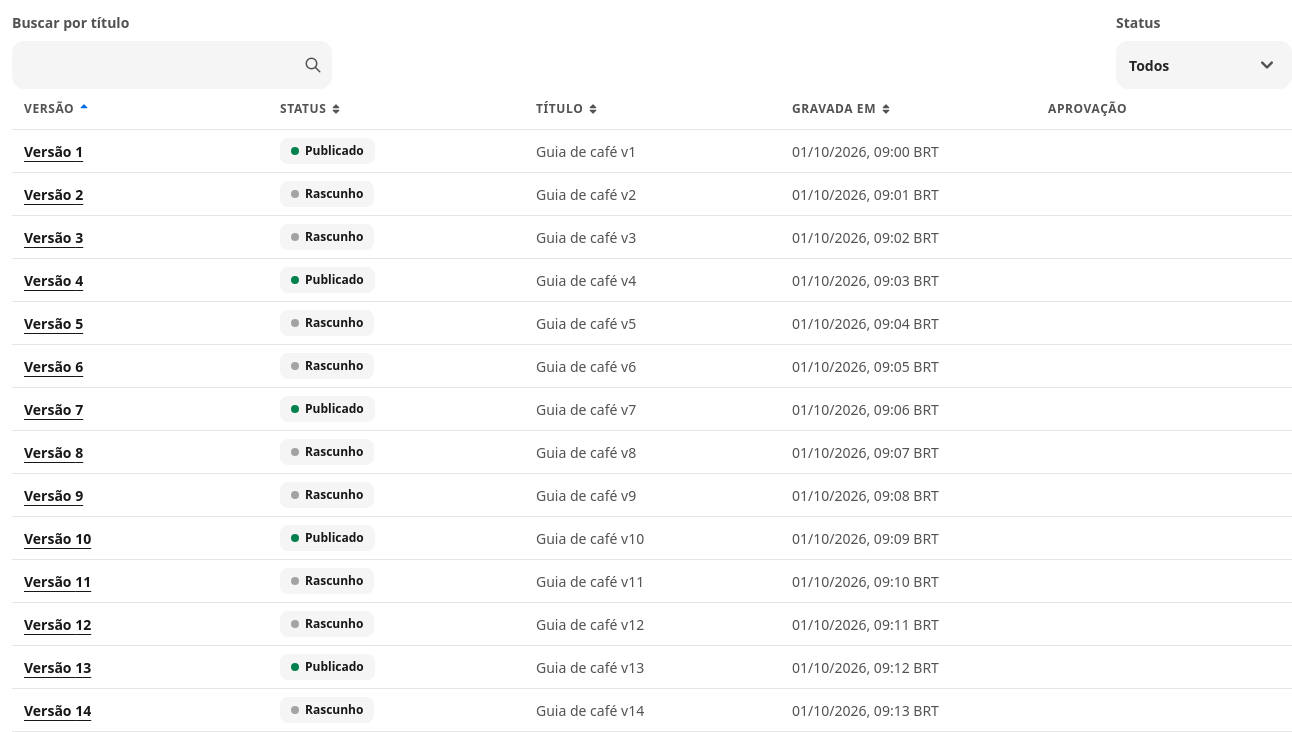
it: busca, filtro, ordem e paginação (#366) › pagina em 25 por padrão e ordena pela versão, da primeira à mais recente
Click the button "Versão" at (57, 109), box x1=24 y1=97 x2=90 y2=121
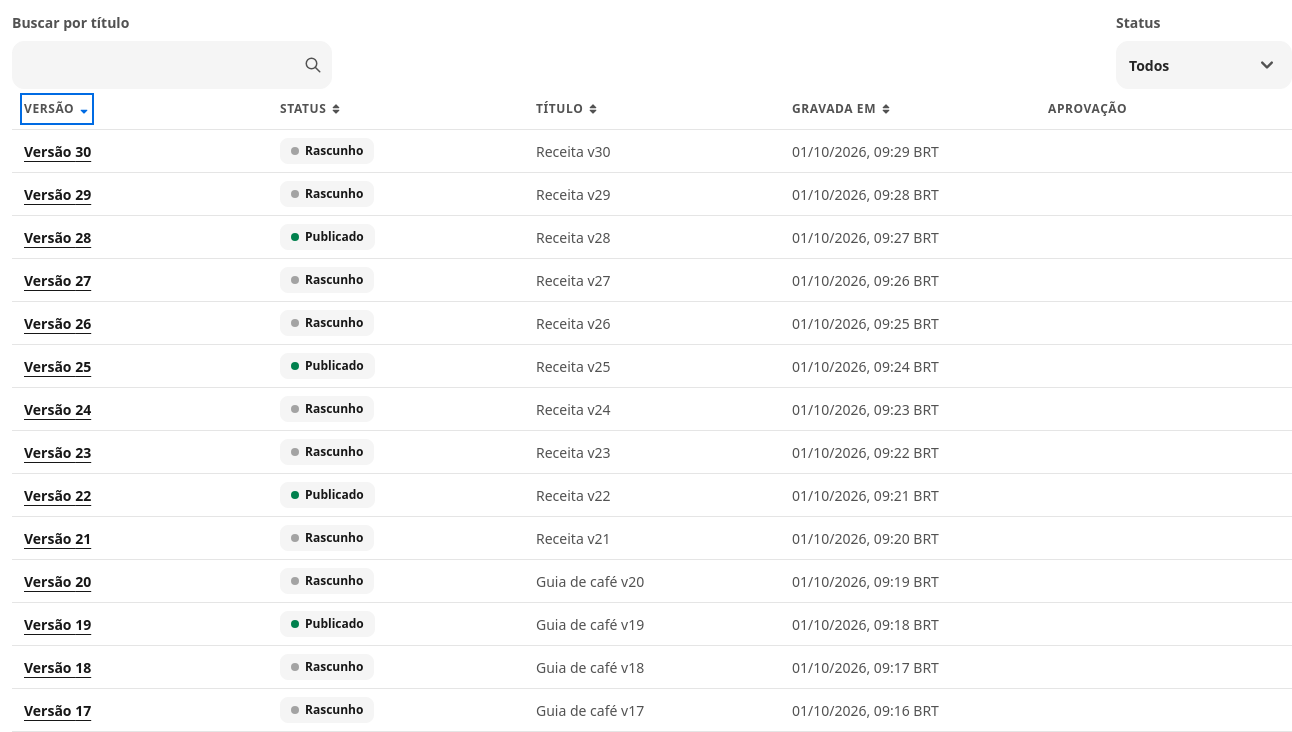
Expected: the link "Versão 30" is shown, x1=24 y1=142 x2=91 y2=160
